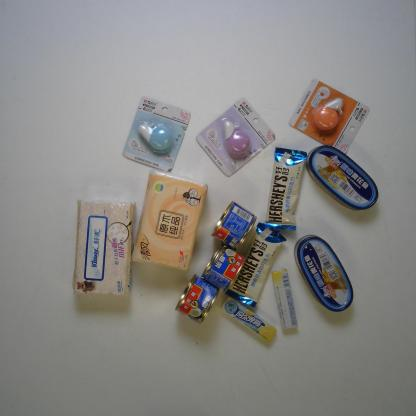Candy: (221, 294, 276, 345), (270, 268, 300, 333)
Canned Food: (306, 145, 378, 211), (293, 234, 353, 313), (174, 274, 221, 324), (211, 201, 258, 249), (200, 244, 246, 291)
Chocolate: (226, 223, 289, 308), (263, 146, 307, 231)
Stationery: (195, 96, 276, 178), (288, 78, 372, 154), (122, 96, 190, 171)
Tissue: (132, 171, 207, 270), (70, 197, 136, 297)
